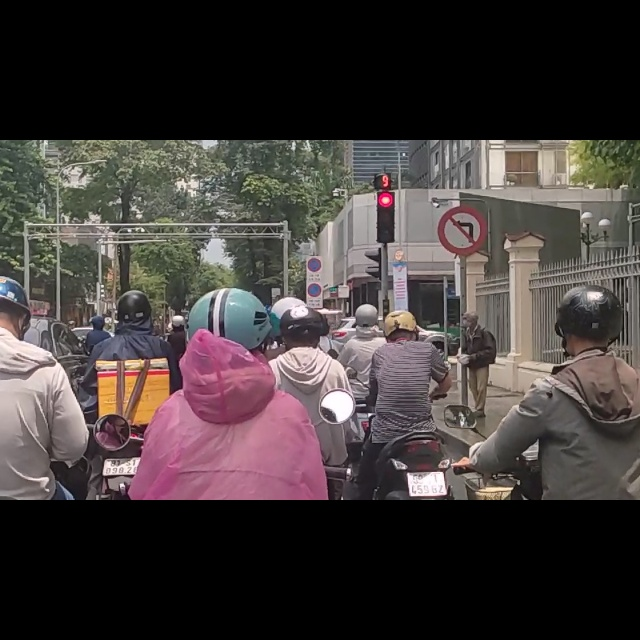bien_chi_dan: (436, 113, 487, 207), (307, 207, 322, 236), (307, 254, 322, 282)
